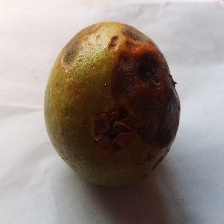guava: (51, 47, 209, 204)
